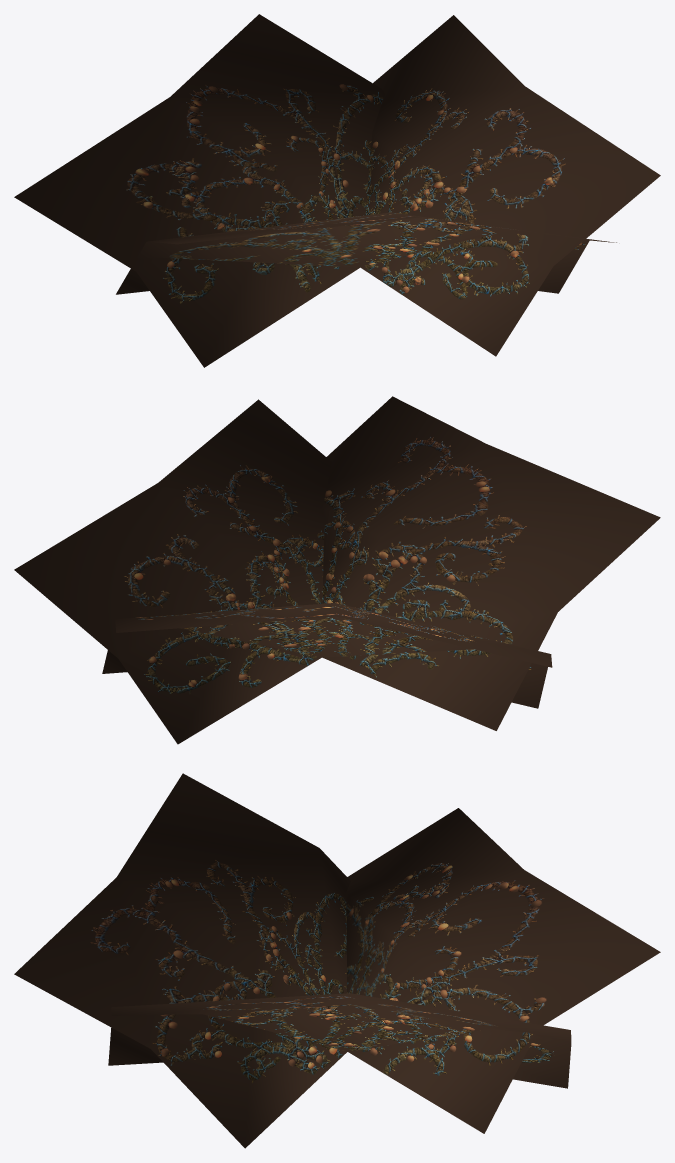
Rendered from Ground_Cover2.fbx.
The picture shows the model from 3 angles, top to bottom: view 1: azimuth 30°, elevation 25°; view 2: azimuth 150°, elevation 25°; view 3: azimuth 270°, elevation 25°; orthographic projection. The views are drawn at different scales.
Parts seen in each view (by area): view 1: polySurface23; view 2: polySurface23; view 3: polySurface23.
Boxes of the visible parts, box(x1,y1,x2,y2) form: polySurface23: box(14, 14, 660, 367); polySurface23: box(14, 396, 660, 744); polySurface23: box(14, 773, 660, 1148).
Bounding box in the file's own units: 38.76 × 13.33 × 43.65.
